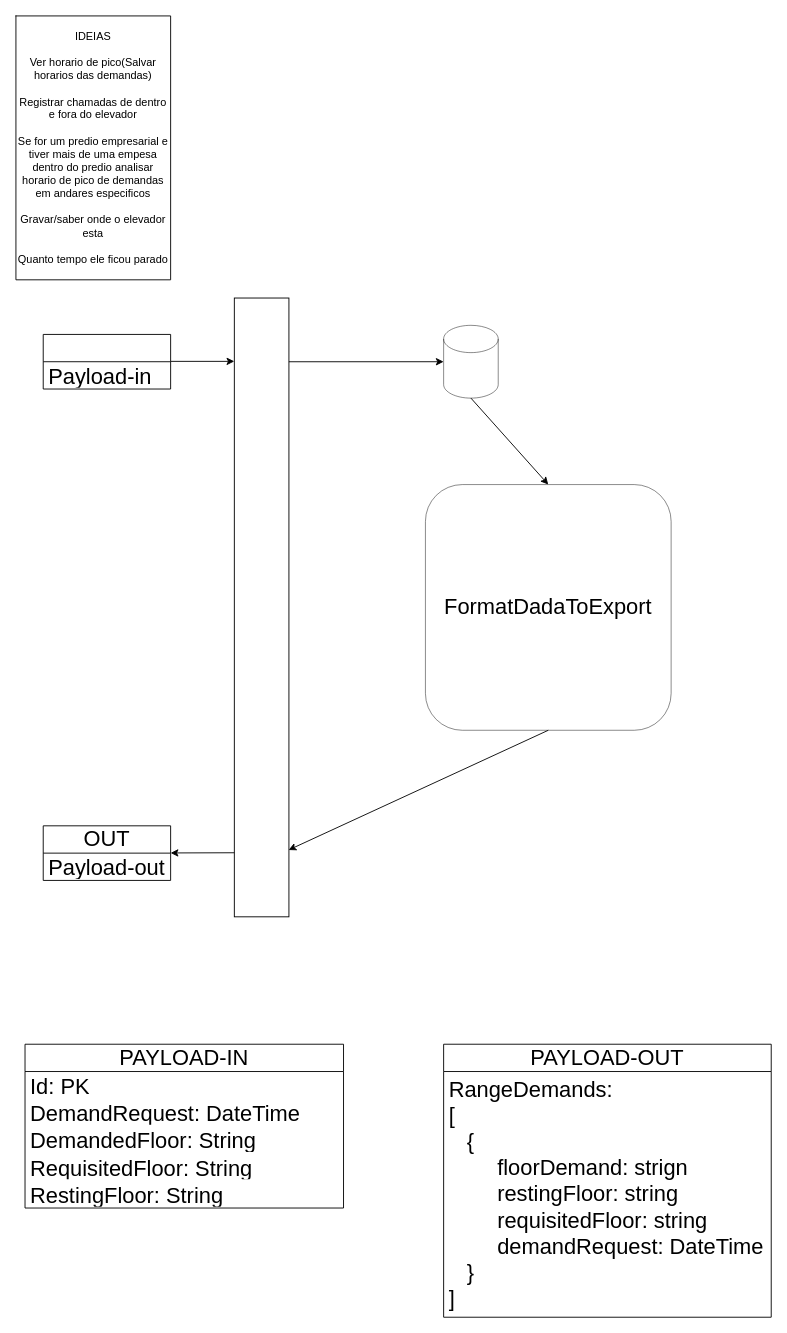
Some shapes in this 787 by 1333 pixel diagram are drawn without their labels. Each missing label, with the box of its shape:
API: (233, 297, 289, 917)
IN: (42, 334, 171, 389)
